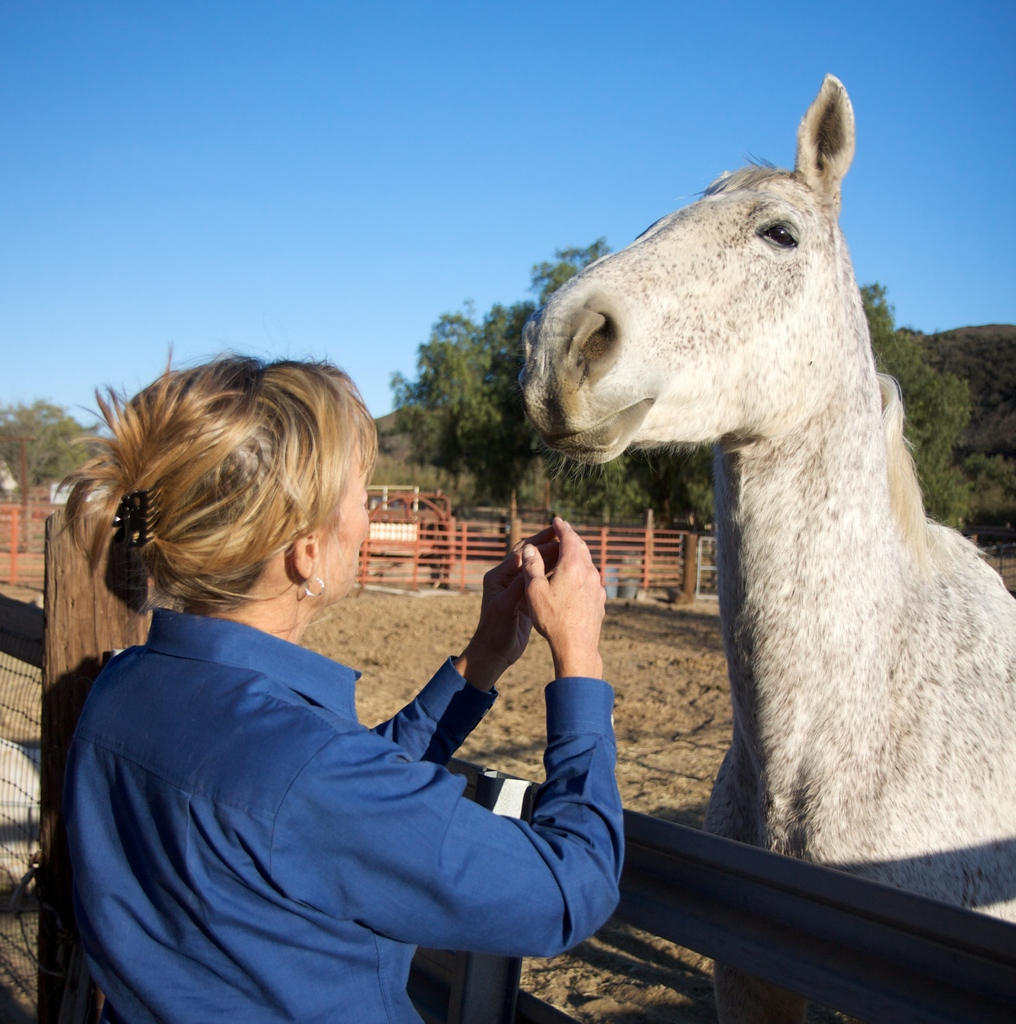Tree: (393, 237, 1016, 532), (0, 398, 97, 490)
